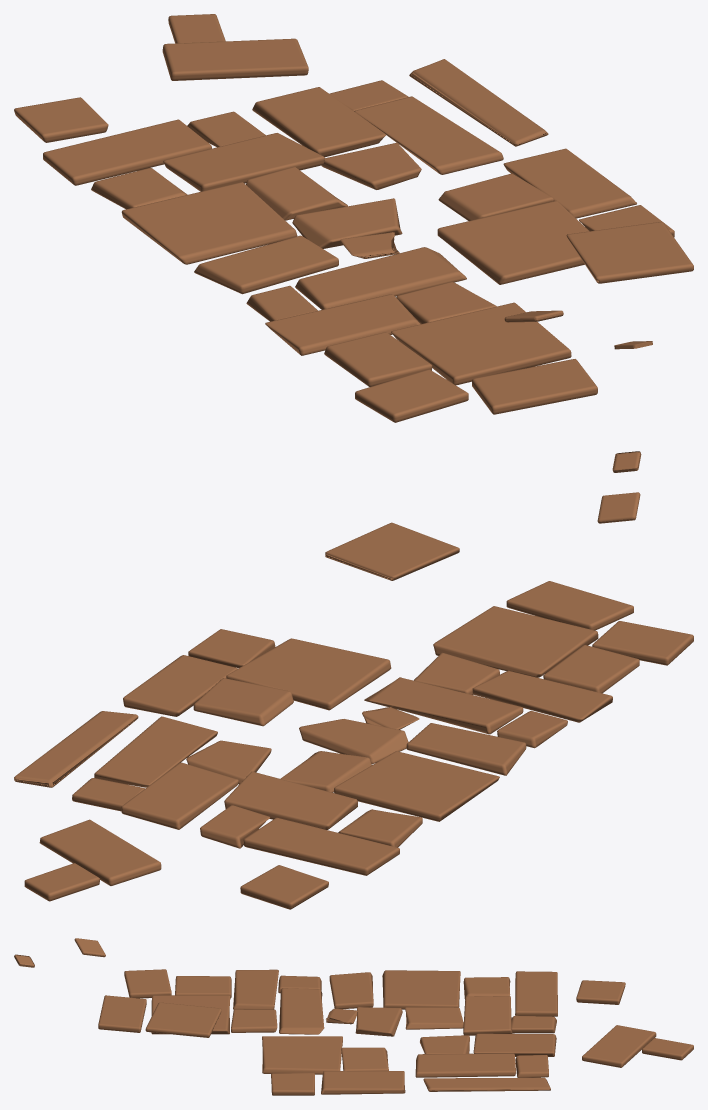
File: SM_Wegplatten.fbx
The picture shows the model from 3 angles, top to bottom: view 1: azimuth 30°, elevation 25°; view 2: azimuth 150°, elevation 25°; view 3: azimuth 270°, elevation 25°; orthographic projection. The views are drawn at different scales.
Visible parts, largest first — view 1: Wegplatten.001; view 2: Wegplatten.001; view 3: Wegplatten.001.
Boxes of the visible parts, bbox=[...] form: Wegplatten.001: bbox=[14, 14, 693, 422]; Wegplatten.001: bbox=[14, 451, 693, 909]; Wegplatten.001: bbox=[14, 938, 693, 1095].
Size of the model in its own units: 508 by 136 by 1198.
